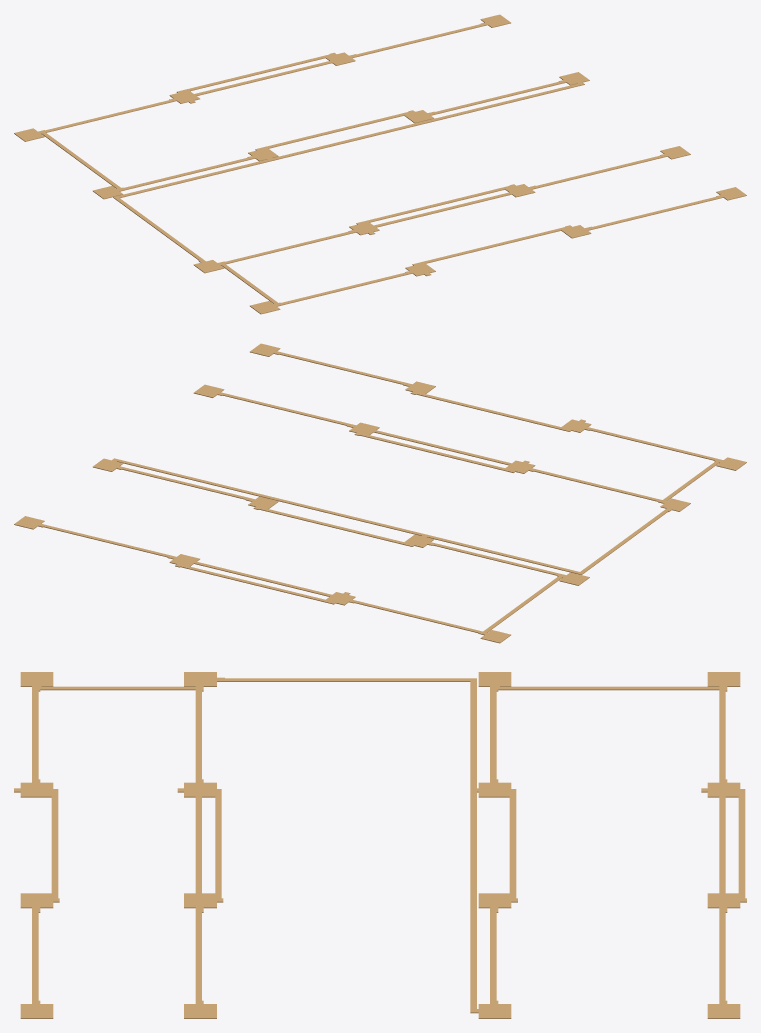
Rendered from board.glb.
3 renders of one model, top to bottom at view 1: azimuth 30°, elevation 25°; view 2: azimuth 150°, elevation 25°; view 3: azimuth 270°, elevation 25°, orthographic. The views are drawn at different scales.
Visible parts, largest first — view 1: Unified_Net_1_Island_0; view 2: Unified_Net_1_Island_0; view 3: Unified_Net_1_Island_0.
Part boxes in pixels (box(x1,y1,x2,y2)): Unified_Net_1_Island_0: box(14, 14, 746, 314); Unified_Net_1_Island_0: box(14, 343, 746, 643); Unified_Net_1_Island_0: box(14, 672, 746, 1018).
Size of the model in its own units: 0.025 by 3.5e-05 by 0.0224.
